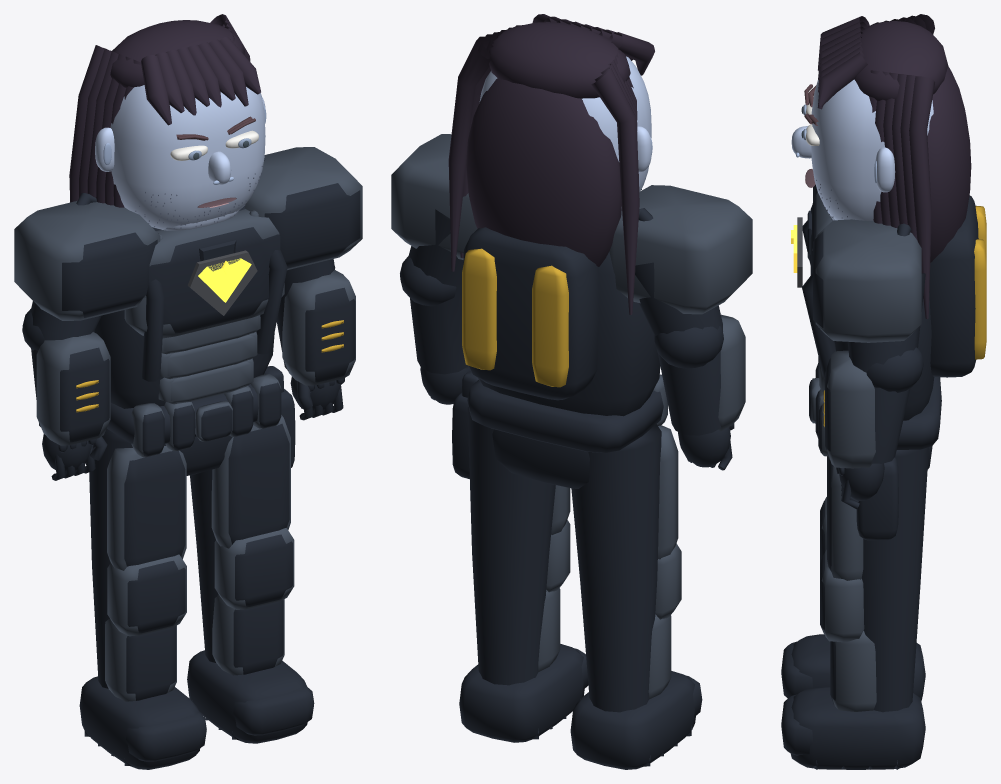
Rendered from ARIXAL_CHOMPJAK.glb.
3 renders of one model, left to right at view 1: azimuth 30°, elevation 25°; view 2: azimuth 150°, elevation 25°; view 3: azimuth 270°, elevation 25°, orthographic. The views are drawn at different scales.
Visible parts, largest first — view 1: Face, Shoulder leftArm rim, Thigh leftLeg armour, Thigh rightLeg armour, Breastplate armour, Shoulder leftArm armour, Shoulder rightArm armour, Boot leftLeg, Boot rightLeg, Shoulder rightArm rim, Undersuit torso, Forearm rightArm armour (+54 smaller); view 2: Long hair back, Trouser leg leftLeg, Trouser leg rightLeg, Shoulder leftArm rim, Backpack, Undersuit torso, Hair crown, Boot leftLeg, Boot rightLeg, Belt, Sleeve leftArm, Shoulder rightArm rim (+21 smaller); view 3: Shoulder rightArm rim, Trouser leg rightLeg, Boot rightLeg, Face, Backpack, Long hair back, Hair crown, Forearm rightArm rim, Long hair layered strand 15, Sleeve rightArm, Shin rightLeg rim, Thigh rightLeg rim (+23 smaller).
Boxes of the visible parts, box(x1,y1,x2,y2) form: Face: box(110, 85, 265, 229); Shoulder leftArm rim: box(14, 201, 160, 320); Thigh leftLeg armour: box(124, 451, 185, 566); Thigh rightLeg armour: box(228, 423, 289, 544); Breastplate armour: box(149, 227, 280, 333); Shoulder leftArm armour: box(62, 232, 157, 317); Shoulder rightArm armour: box(264, 183, 360, 268); Boot leftLeg: box(79, 676, 200, 769); Boot rightLeg: box(187, 650, 307, 743); Shoulder rightArm rim: box(244, 147, 362, 270); Undersuit torso: box(95, 206, 274, 408); Forearm rightArm armour: box(305, 287, 355, 382); Long hair back: box(466, 78, 621, 266); Trouser leg leftLeg: box(571, 424, 661, 712); Trouser leg rightLeg: box(467, 406, 555, 685); Shoulder leftArm rim: box(609, 185, 752, 314); Backpack: box(463, 227, 599, 400); Undersuit torso: box(478, 252, 660, 416); Hair crown: box(488, 22, 630, 98); Boot leftLeg: box(570, 671, 695, 769); Boot rightLeg: box(459, 644, 584, 742); Belt: box(467, 380, 663, 452); Sleeve leftArm: box(635, 262, 722, 435); Shoulder rightArm rim: box(391, 134, 477, 259); Shoulder rightArm rim: box(815, 219, 921, 342); Trouser leg rightLeg: box(861, 447, 928, 712); Boot rightLeg: box(791, 687, 925, 769); Face: box(811, 79, 933, 220); Backpack: box(929, 195, 978, 377); Long hair back: box(927, 66, 971, 262); Hair crown: box(854, 21, 948, 100); Forearm rightArm rim: box(827, 350, 875, 468); Long hair layered strand 15: box(909, 76, 934, 318); Sleeve rightArm: box(847, 273, 925, 463); Shin rightLeg rim: box(832, 631, 876, 711); Thigh rightLeg rim: box(831, 466, 863, 580).
Bounding box in the file's own units: 0.9551 × 2.01 × 0.5356.
